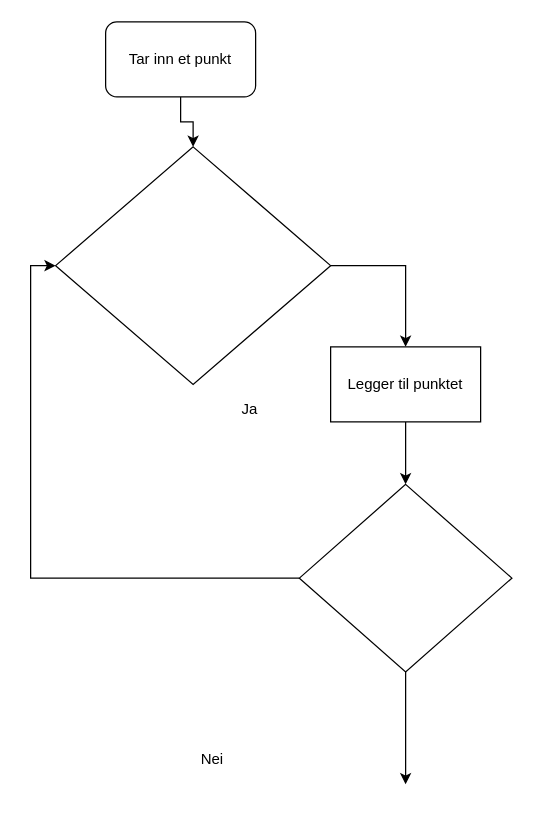
The diagram is 534 pixels wide and 816 high, and some of its shapes have lost their labels. The centre of each missing label's shape, as x and y in pixels:
har 3 naboer (seg selv og to på hver side, eller hjørne): (x=192, y=265)
Ligger begge naboene på linje?: (x=405, y=577)
